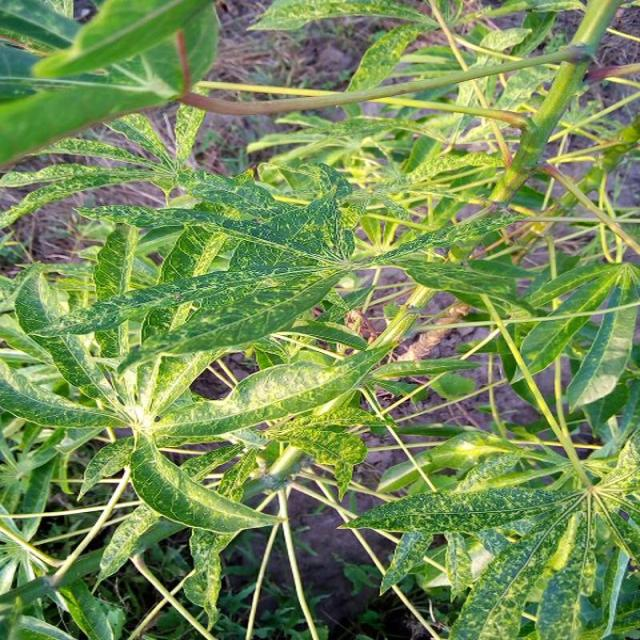cassava leaf: (0, 1, 638, 638), (0, 0, 219, 170)
